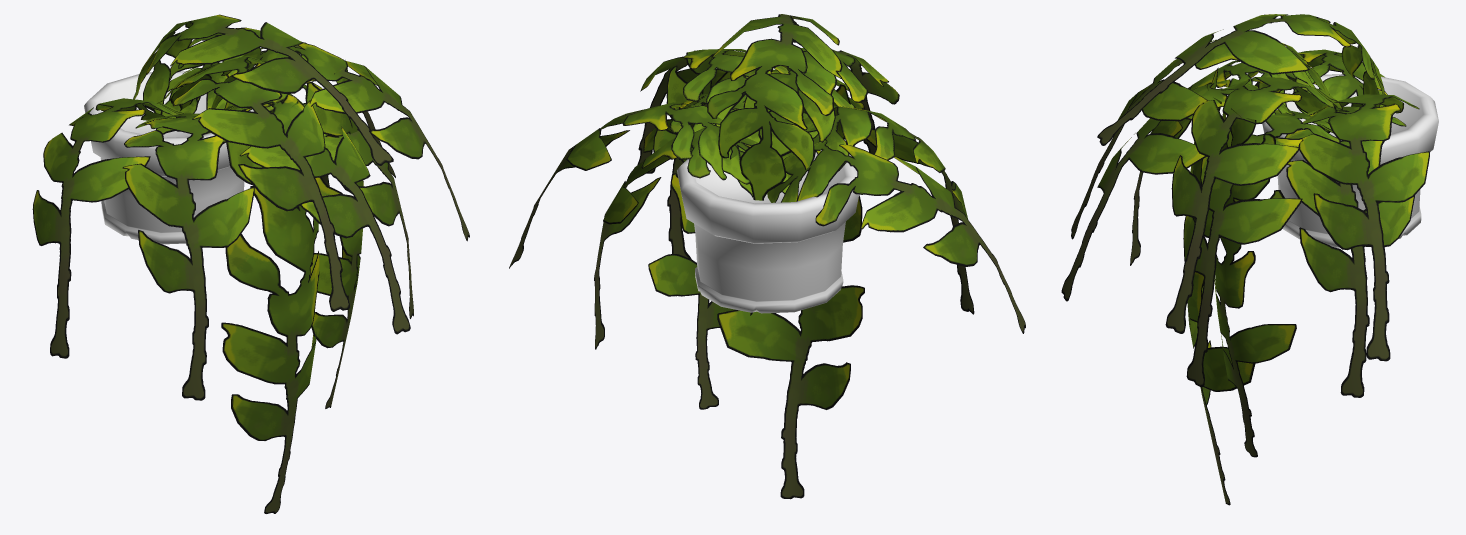
The model's file is PlantSmall_01.fbx.
3 renders of one model, left to right at view 1: azimuth 30°, elevation 25°; view 2: azimuth 150°, elevation 25°; view 3: azimuth 270°, elevation 25°, orthographic. The views are drawn at different scales.
Visible parts, largest first — view 1: Plane.110, Pot.002; view 2: Plane.110, Pot.002; view 3: Plane.110, Pot.002.
Boxes of the visible parts, bbox=[...] form: Plane.110: bbox=[32, 14, 469, 513]; Pot.002: bbox=[84, 71, 253, 244]; Plane.110: bbox=[509, 14, 1025, 499]; Pot.002: bbox=[677, 150, 858, 313]; Plane.110: bbox=[1061, 14, 1429, 505]; Pot.002: bbox=[1262, 74, 1438, 247].
Bounding box in the file's own units: 605 × 645 × 486.
